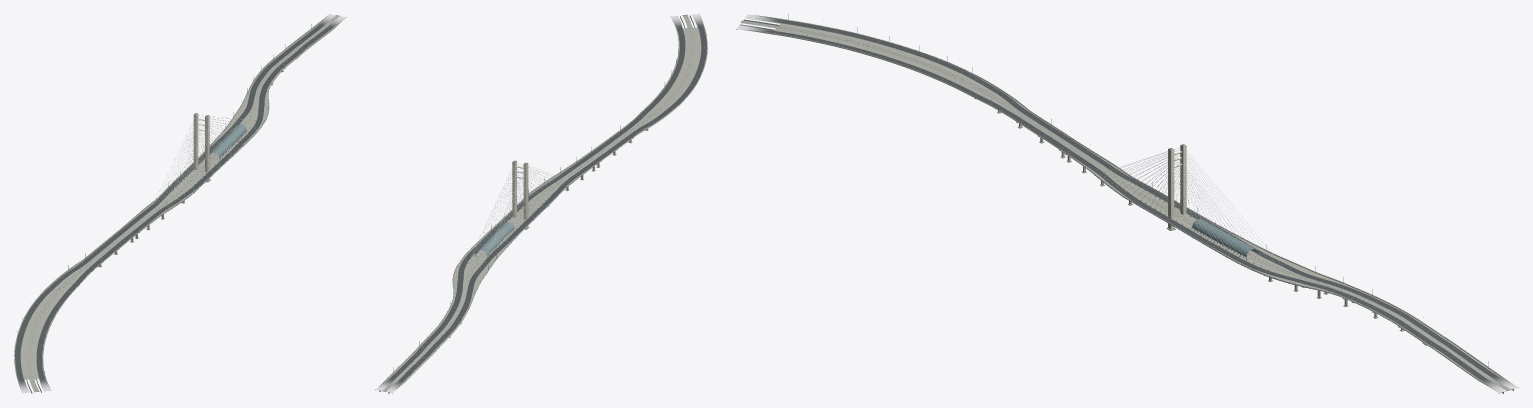
Rendered from basarab-overpass-near.glb.
The picture shows the model from 3 angles, left to right: view 1: azimuth 30°, elevation 25°; view 2: azimuth 210°, elevation 25°; view 3: azimuth 270°, elevation 25°; orthographic projection. The views are drawn at different scales.
Parts seen in each view (by area): view 1: basarab-overpass-0-concrete, basarab-overpass-1-concrete, basarab-overpass-0-asphalt, basarab-overpass-2-concrete, basarab-overpass-1-asphalt, basarab-overpass-2-asphalt, basarab-overpass-1-cable, basarab-overpass-1-tower, basarab-overpass-1-glass, basarab-overpass-1-rail; view 2: basarab-overpass-0-concrete, basarab-overpass-2-concrete, basarab-overpass-1-concrete, basarab-overpass-2-asphalt, basarab-overpass-0-asphalt, basarab-overpass-1-asphalt, basarab-overpass-1-cable, basarab-overpass-1-tower, basarab-overpass-1-glass, basarab-overpass-1-rail; view 3: basarab-overpass-0-concrete, basarab-overpass-2-concrete, basarab-overpass-1-concrete, basarab-overpass-2-asphalt, basarab-overpass-0-asphalt, basarab-overpass-1-asphalt, basarab-overpass-1-cable, basarab-overpass-1-tower, basarab-overpass-1-glass, basarab-overpass-0-rail.
Part boxes in pixels (x1,y1,x2,y2): basarab-overpass-0-concrete: (14, 254, 107, 392); basarab-overpass-1-concrete: (90, 130, 253, 258); basarab-overpass-0-asphalt: (15, 254, 105, 392); basarab-overpass-2-concrete: (224, 15, 345, 135); basarab-overpass-1-asphalt: (91, 131, 251, 257); basarab-overpass-2-asphalt: (227, 14, 345, 134); basarab-overpass-1-cable: (153, 115, 255, 206); basarab-overpass-1-tower: (193, 113, 209, 181); basarab-overpass-1-glass: (209, 124, 246, 157); basarab-overpass-1-rail: (90, 126, 253, 256); basarab-overpass-0-concrete: (615, 15, 707, 143); basarab-overpass-2-concrete: (376, 252, 498, 392); basarab-overpass-1-concrete: (468, 134, 631, 256); basarab-overpass-2-asphalt: (376, 252, 494, 392); basarab-overpass-0-asphalt: (616, 14, 706, 138); basarab-overpass-1-asphalt: (470, 135, 630, 256); basarab-overpass-1-cable: (467, 163, 567, 267); basarab-overpass-1-tower: (512, 160, 528, 228); basarab-overpass-1-glass: (475, 222, 514, 255); basarab-overpass-1-rail: (471, 134, 628, 254); basarab-overpass-0-concrete: (737, 15, 1039, 128); basarab-overpass-2-concrete: (1232, 249, 1517, 392); basarab-overpass-1-concrete: (1019, 117, 1263, 260); basarab-overpass-2-asphalt: (1235, 251, 1518, 392); basarab-overpass-0-asphalt: (736, 14, 1038, 122); basarab-overpass-1-asphalt: (1021, 118, 1259, 259); basarab-overpass-1-cable: (1100, 147, 1280, 268); basarab-overpass-1-tower: (1168, 144, 1186, 229); basarab-overpass-1-glass: (1192, 219, 1258, 257); basarab-overpass-0-rail: (736, 15, 1037, 120).
Bounding box in the file's own units: 957 × 96.55 × 836.
